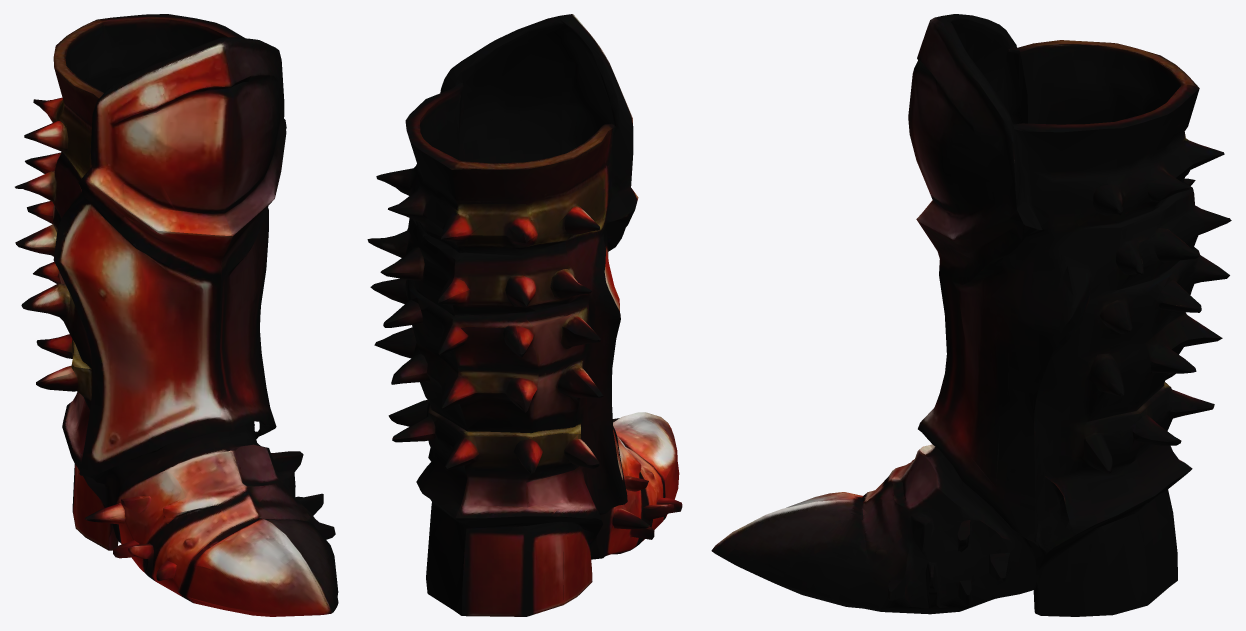
File: jarl_greaves.glb
The picture shows the model from 3 angles, left to right: view 1: azimuth 30°, elevation 25°; view 2: azimuth 150°, elevation 25°; view 3: azimuth 270°, elevation 25°; orthographic projection. The views are drawn at different scales.
Parts seen in each view (by area): view 1: world; view 2: world; view 3: world.
Part boxes in pixels (box(x1,y1,x2,y2)): world: box(15, 14, 338, 616); world: box(367, 14, 682, 616); world: box(711, 14, 1231, 616).
Bounding box in the file's own units: 0.2293 × 0.5028 × 0.4192.
Materials: 1 (1 with a texture image).
